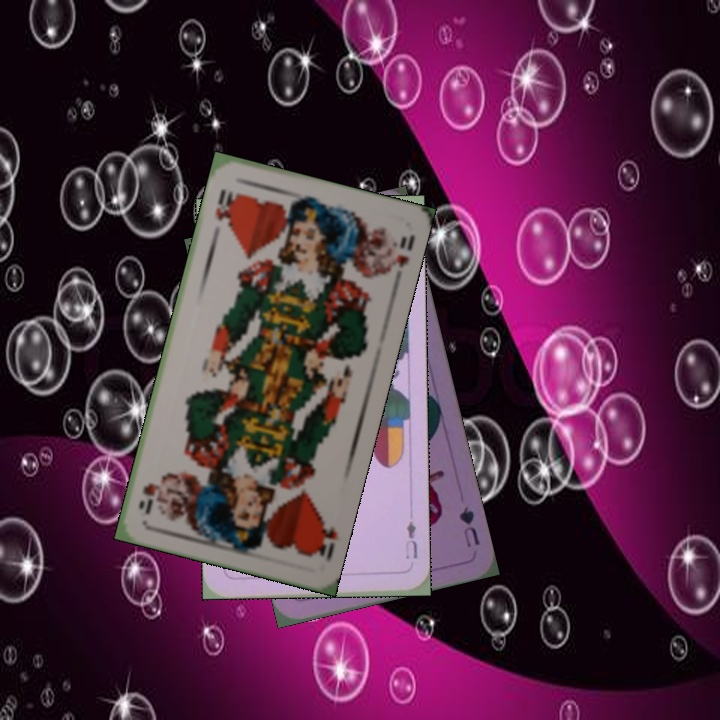EU: (401, 517, 420, 561)
GU: (455, 502, 483, 550)
HO: (308, 511, 341, 561), (210, 185, 239, 229)
